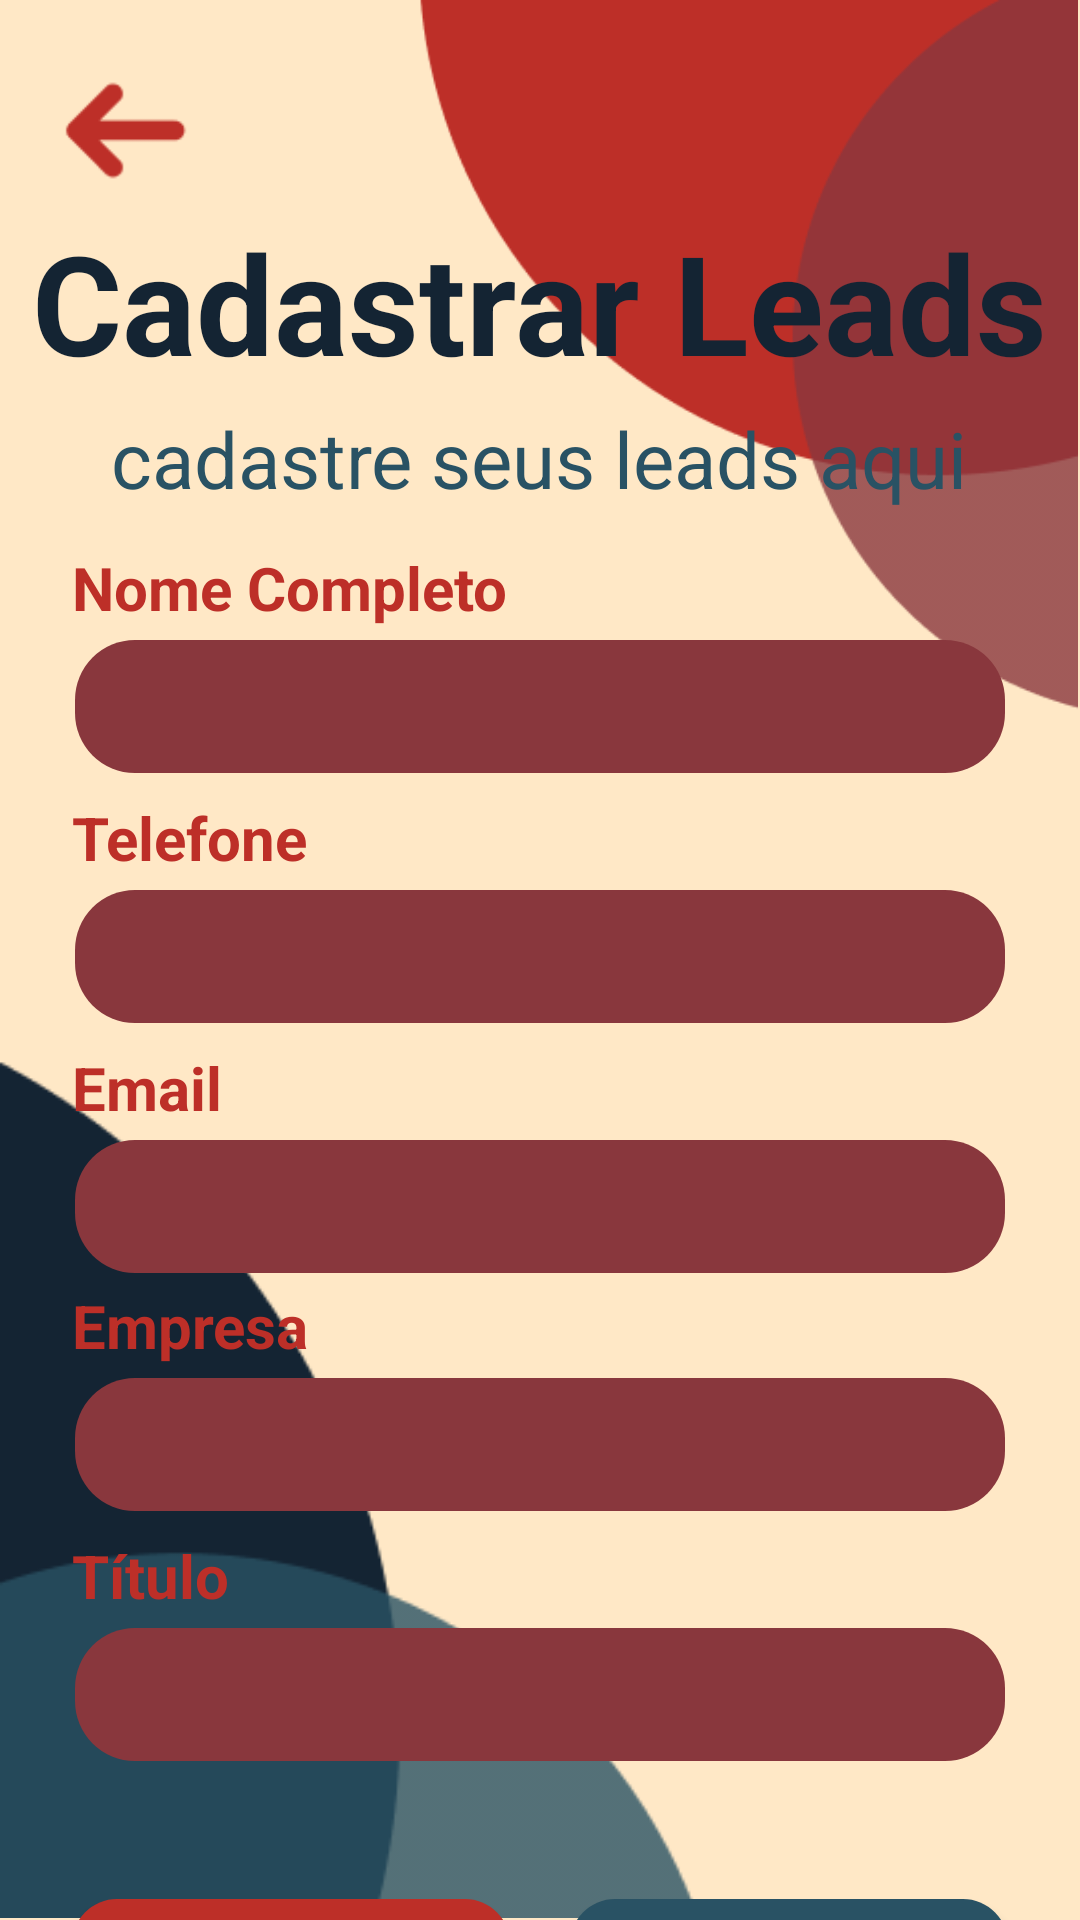

Screen size 1080 x 1920. Icon name, then its box in pixels as (x1, y1, x2, y2):
arrow: (66, 82, 186, 179)
